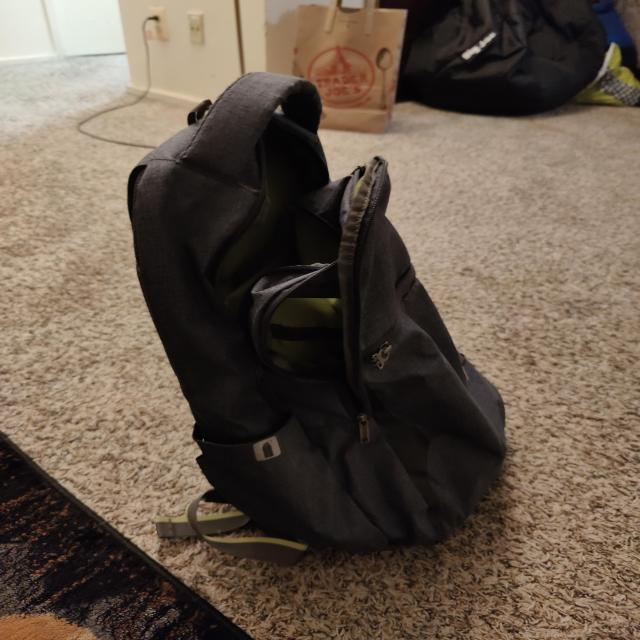bag: (145, 78, 488, 536)
